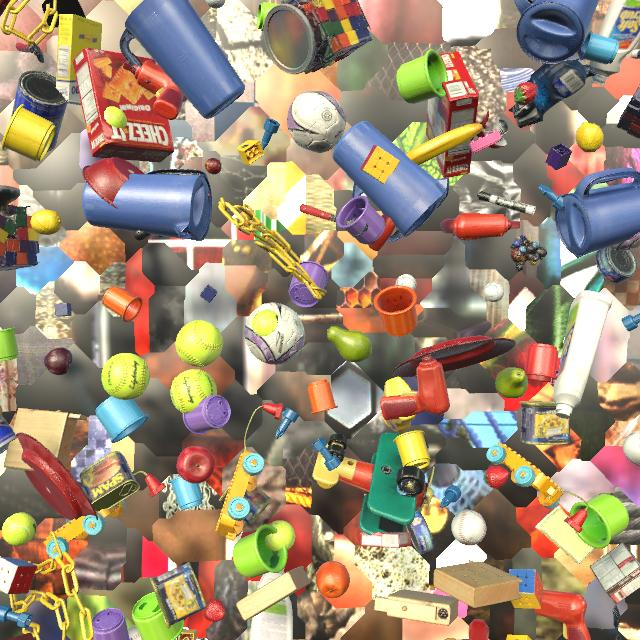ycb_002_master_chef_can: (10, 70, 68, 152), (0, 416, 17, 454)
ycb_003_cracker_box: (72, 48, 174, 162), (426, 51, 479, 178), (461, 639, 469, 640)
ycb_004_sugar_box: (56, 14, 102, 106)
ycb_006_mustard_bottle: (381, 377, 416, 432)
ycb_007_tuna_fish_can: (595, 247, 637, 284), (405, 511, 435, 555)
ycb_008_pudding_box: (589, 543, 640, 605)
ycb_009_gelatin_box: (360, 532, 411, 548)
ycb_010_potted_meat_can: (150, 562, 207, 629), (79, 451, 140, 513), (520, 401, 570, 445), (218, 486, 271, 525)
ycb_011_banana: (406, 123, 483, 165)
ycb_012_strawberry: (514, 82, 538, 106), (484, 466, 509, 489), (204, 598, 225, 622)
ycb_013_apple: (177, 446, 215, 484)
ycb_014_lemon: (576, 121, 604, 153), (31, 210, 62, 235)
ycb_015_peach: (444, 638, 457, 640), (0, 405, 2, 418)
ycb_016_pear: (327, 326, 372, 362), (495, 367, 528, 399)
ycb_017_orange: (316, 561, 350, 598)
ycb_018_plum: (44, 347, 73, 375)
